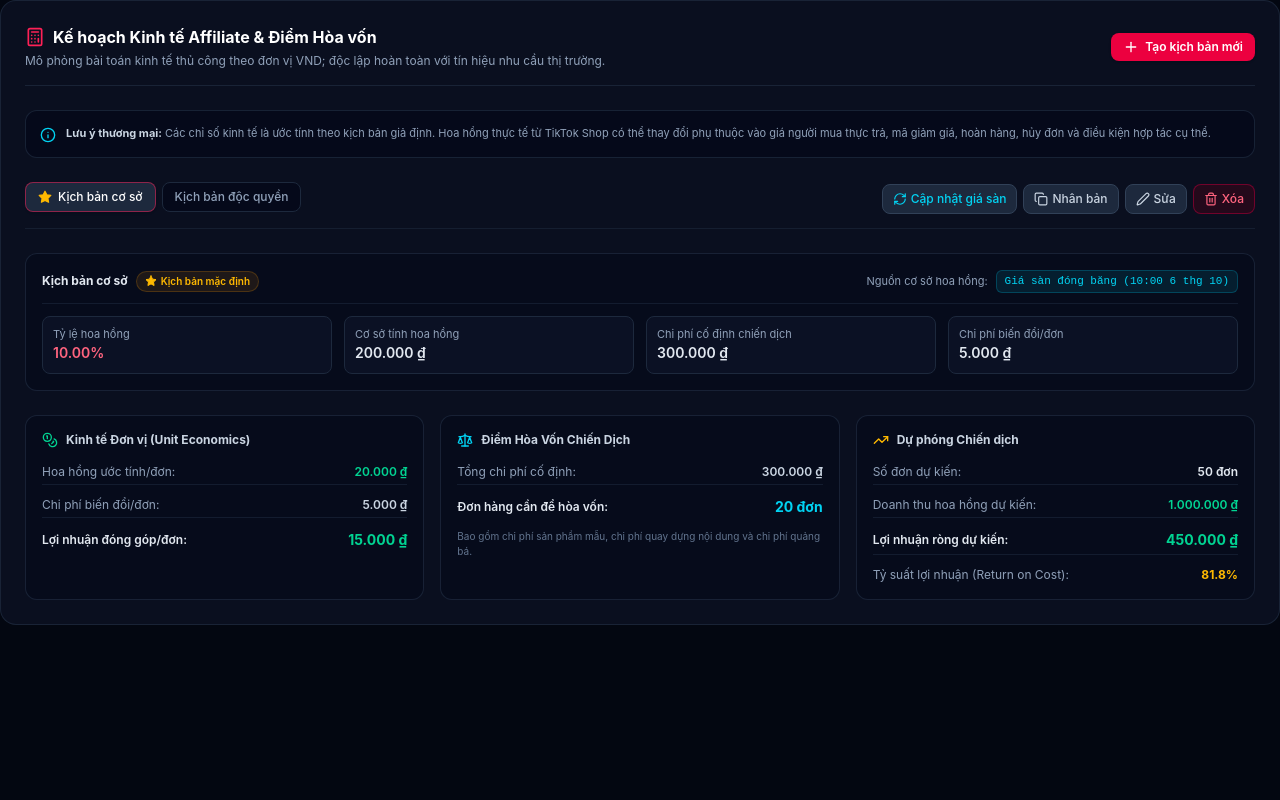
Test: Phase 6 — Product Economics Section Frontend (P6-AC-32) › switches between scenarios on tab click
This screenshot has width=1280, height=800.
# Click on Scenario 2
What coordinates should you click on to do the following:
click the button "Kịch bản độc quyền"
I would click on:
 (232, 197)
Its box is left=162, top=182, right=302, bottom=212.
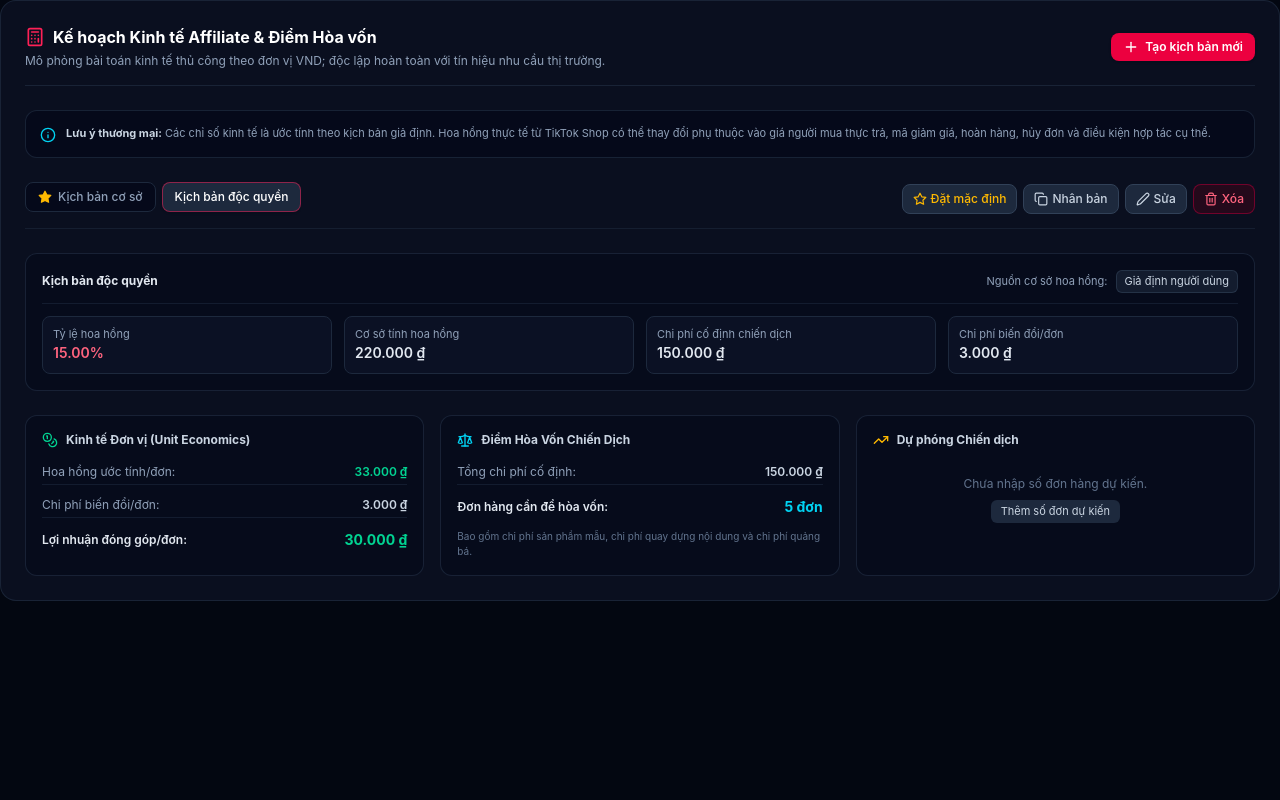
expect the text "Giả định người dùng" is shown: met, box left=1116, top=270, right=1238, bottom=292
expect the text "33.000 ₫" is shown: met, box left=355, top=464, right=407, bottom=480
expect the text "5 đơn" is shown: met, box left=784, top=497, right=823, bottom=517
